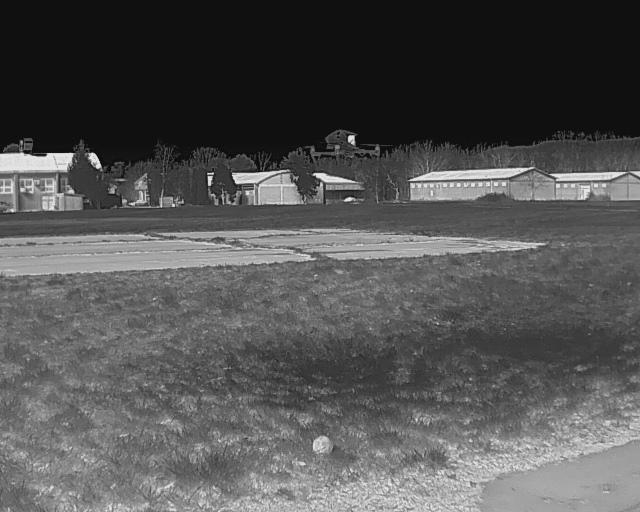drone: (291, 121, 392, 182)
